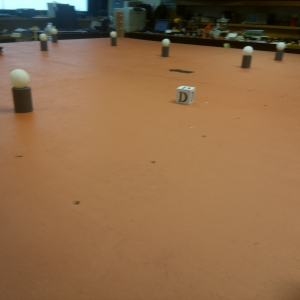blockD: (175, 84, 194, 103)
corner: (116, 12, 124, 39)
obstacle: (10, 68, 33, 110), (241, 46, 253, 68), (275, 41, 284, 62), (161, 38, 170, 58), (39, 33, 48, 52), (50, 28, 58, 44), (110, 31, 116, 45)
start: (168, 67, 193, 76)
